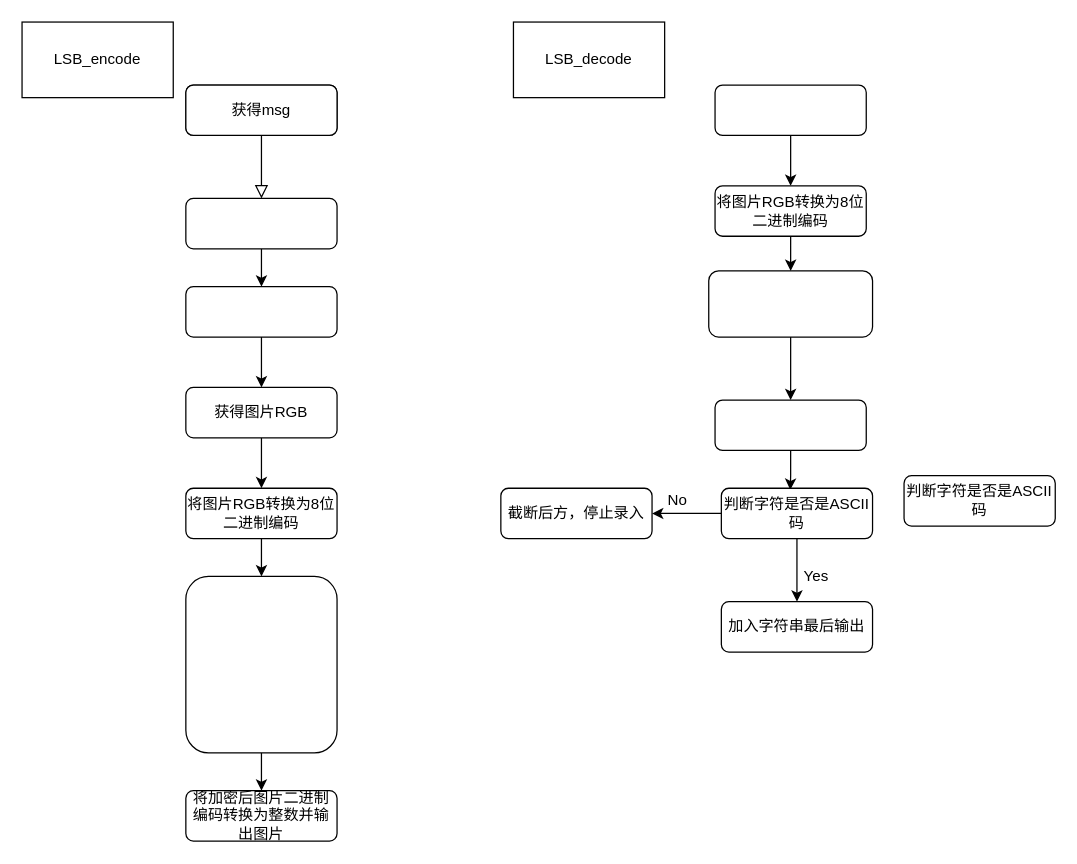
This 1077x864 diagram has some shape labels left out. The box of each missing label's shape, as (x1, y1, x2, y2) in pixels:
利用列表和字符串，提取出图片二进制编码前7位，第8位替换为信息二进制编码: (185, 575, 337, 753)
利用列表提取出图片二进制编码每8位的最后一位: (707, 270, 873, 337)
将msg的ascii码转换为8位二进制编码: (185, 285, 337, 337)
将msg转换为ascii码: (185, 197, 337, 249)
将二进制编码转换为ASCII码: (714, 399, 866, 450)
获得加密图片RGB值: (714, 84, 866, 135)
